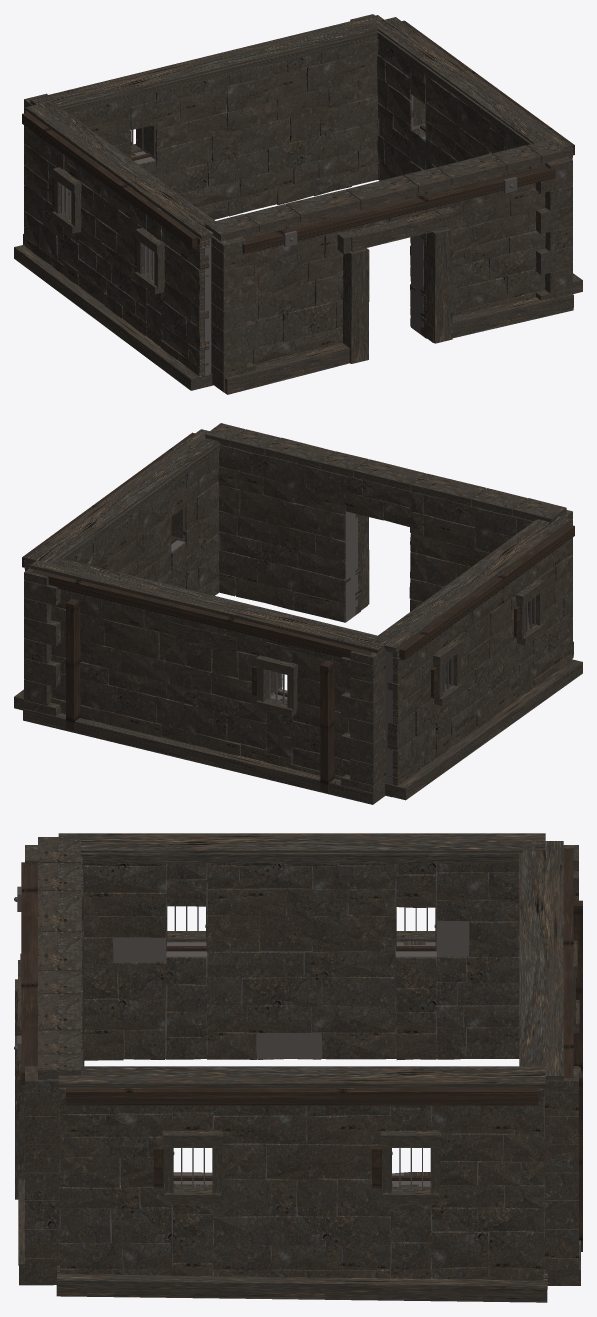
Rendered from blacksmith_four_walls_preview.glb.
The picture shows the model from 3 angles, top to bottom: view 1: azimuth 30°, elevation 25°; view 2: azimuth 150°, elevation 25°; view 3: azimuth 270°, elevation 25°; orthographic projection. The views are drawn at different scales.
Visible parts, largest first — view 1: GENESIS_BATCH_Quarry basalt / dark warm PBR, GENESIS_BATCH_Soot deposits - char and oxide, GENESIS_BATCH_Basalt - mineral warm variance, GENESIS_BATCH_Blackened ironstone coping / dark scanned, GENESIS_BATCH_Oak / fire seasoned PBR, GENESIS_BATCH_Recessed stone mortar / dark, GENESIS_BATCH_Oxidized forged iron; view 2: GENESIS_BATCH_Quarry basalt / dark warm PBR, GENESIS_BATCH_Soot deposits - char and oxide, GENESIS_BATCH_Blackened ironstone coping / dark scanned, GENESIS_BATCH_Basalt - mineral warm variance, GENESIS_BATCH_Oak / fire seasoned PBR, GENESIS_BATCH_Recessed stone mortar / dark, GENESIS_BATCH_Oxidized forged iron; view 3: GENESIS_BATCH_Quarry basalt / dark warm PBR, GENESIS_BATCH_Soot deposits - char and oxide, GENESIS_BATCH_Basalt - mineral warm variance, GENESIS_BATCH_Blackened ironstone coping / dark scanned, GENESIS_BATCH_Oak / fire seasoned PBR, GENESIS_BATCH_Recessed stone mortar / dark, GENESIS_BATCH_Oxidized forged iron.
Part boxes in pixels (x1=…): GENESIS_BATCH_Quarry basalt / dark warm PBR: x1=14, y1=38, x2=572, y2=394; GENESIS_BATCH_Soot deposits - char and oxide: x1=24, y1=46, x2=573, y2=380; GENESIS_BATCH_Basalt - mineral warm variance: x1=24, y1=14, x2=582, y2=372; GENESIS_BATCH_Blackened ironstone coping / dark scanned: x1=25, y1=15, x2=571, y2=241; GENESIS_BATCH_Oak / fire seasoned PBR: x1=22, y1=16, x2=574, y2=266; GENESIS_BATCH_Recessed stone mortar / dark: x1=68, y1=64, x2=491, y2=374; GENESIS_BATCH_Oxidized forged iron: x1=58, y1=129, x2=517, y2=280; GENESIS_BATCH_Quarry basalt / dark warm PBR: x1=23, y1=445, x2=582, y2=804; GENESIS_BATCH_Soot deposits - char and oxide: x1=24, y1=451, x2=573, y2=780; GENESIS_BATCH_Blackened ironstone coping / dark scanned: x1=25, y1=423, x2=571, y2=653; GENESIS_BATCH_Basalt - mineral warm variance: x1=14, y1=467, x2=572, y2=785; GENESIS_BATCH_Oak / fire seasoned PBR: x1=22, y1=432, x2=574, y2=792; GENESIS_BATCH_Recessed stone mortar / dark: x1=29, y1=477, x2=563, y2=797; GENESIS_BATCH_Oxidized forged iron: x1=264, y1=596, x2=535, y2=703; GENESIS_BATCH_Quarry basalt / dark warm PBR: x1=15, y1=846, x2=580, y2=1285; GENESIS_BATCH_Soot deposits - char and oxide: x1=18, y1=863, x2=578, y2=1280; GENESIS_BATCH_Basalt - mineral warm variance: x1=15, y1=845, x2=578, y2=1302; GENESIS_BATCH_Blackened ironstone coping / dark scanned: x1=38, y1=833, x2=563, y2=1090; GENESIS_BATCH_Oak / fire seasoned PBR: x1=21, y1=848, x2=582, y2=1251; GENESIS_BATCH_Recessed stone mortar / dark: x1=47, y1=863, x2=544, y2=1276; GENESIS_BATCH_Oxidized forged iron: x1=14, y1=886, x2=435, y2=1189.
Bounding box in the file's own units: 8.91 × 3.4 × 8.08.
Materials: 8 (6 with a texture image).
